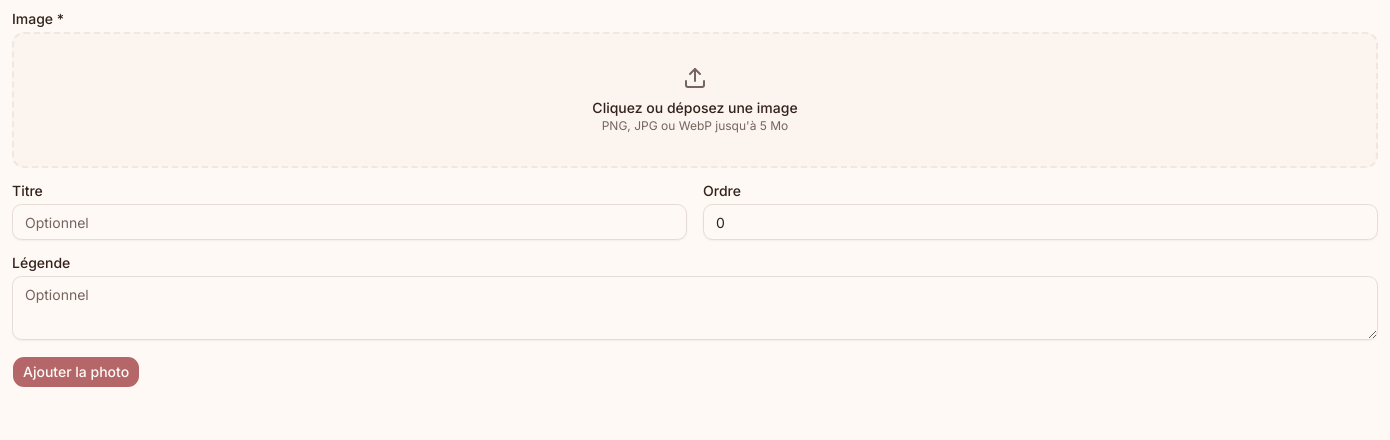
Scenario: GalleryForm › shows the error returned by the action
Click the button "Ajouter la photo": (76, 372) [12,356,140,388]
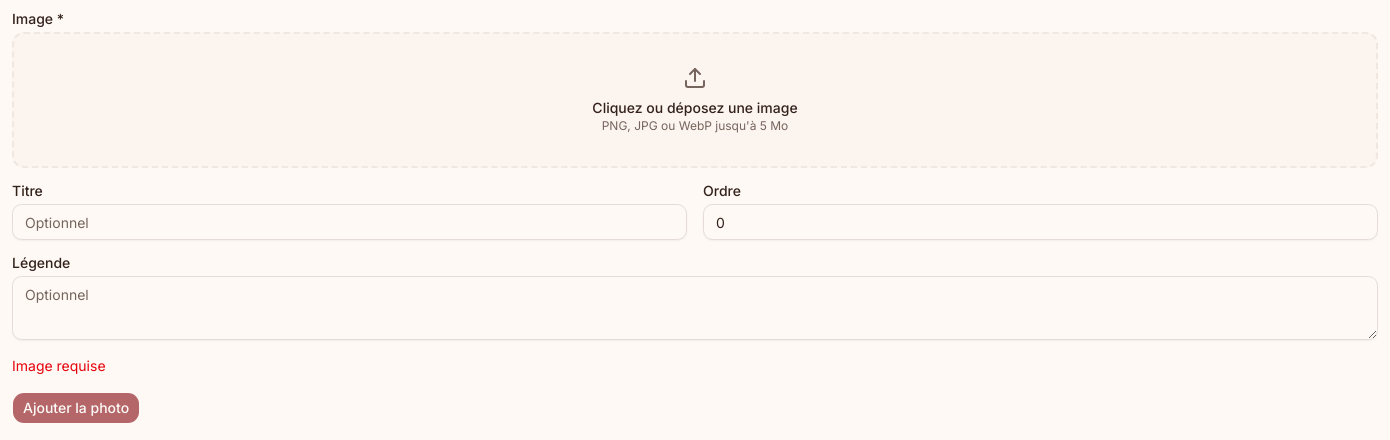
expect the text "Image requise" is shown: met, box [12,357,106,374]
